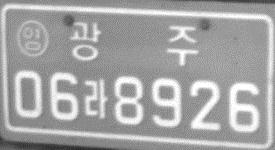0: (12, 69, 43, 119)
2: (188, 79, 222, 132)
6: (228, 80, 261, 134), (48, 70, 78, 121)
8: (112, 74, 144, 125)
9: (150, 77, 182, 128)
광주_D: (69, 20, 198, 66)
라: (82, 77, 108, 120)
영: (16, 19, 49, 58)
